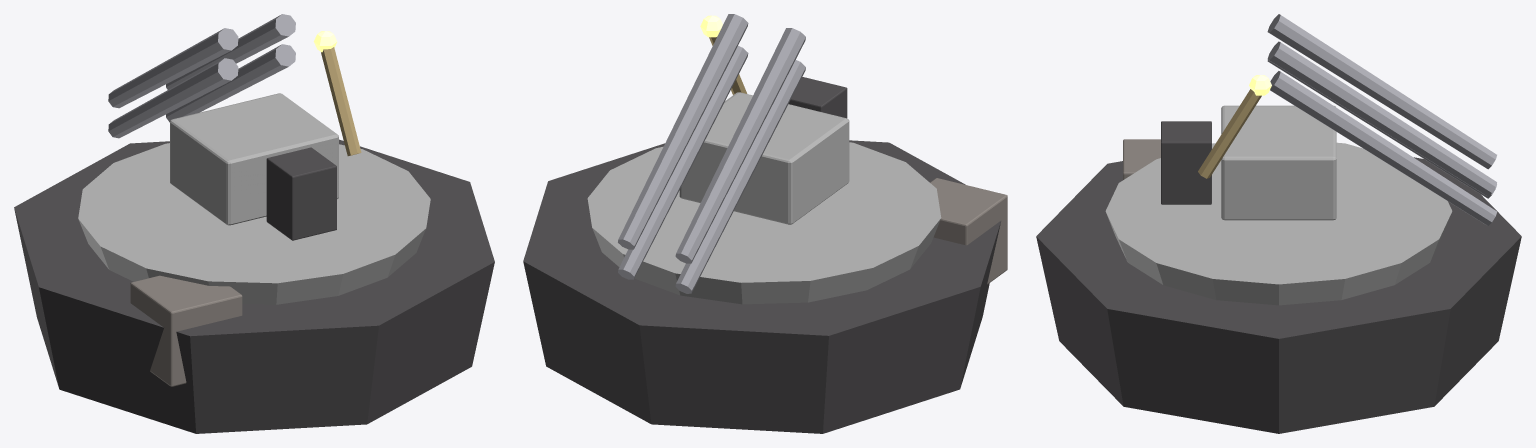
Rendered from bld_aa_turret.glb.
3 renders of one model, left to right at view 1: azimuth 30°, elevation 25°; view 2: azimuth 150°, elevation 25°; view 3: azimuth 270°, elevation 25°, orthographic. The views are drawn at different scales.
Visible parts, largest first — view 1: AA_Plinth, AA_Ring, AA_Cradle, AA_Locker, AA_Seat, AA_Flak.001, AA_Flak, AA_Flak.002, AA_Flak.003, AA_Finder; view 2: AA_Plinth, AA_Ring, AA_Cradle, AA_Flak.001, AA_Flak.003, AA_Locker, AA_Flak, AA_Flak.002, AA_Seat; view 3: AA_Plinth, AA_Ring, AA_Cradle, AA_Flak.001, AA_Flak.003, AA_Flak.002, AA_Seat, AA_Finder, AA_Locker, AA_Flak.
Part boxes in pixels (left/top/right/bottom): AA_Plinth: left=14, top=139, right=494, bottom=433; AA_Ring: left=78, top=143, right=430, bottom=304; AA_Cradle: left=170, top=93, right=338, bottom=225; AA_Locker: left=130, top=275, right=242, bottom=386; AA_Seat: left=266, top=147, right=336, bottom=240; AA_Flak.001: left=108, top=28, right=238, bottom=108; AA_Flak: left=108, top=58, right=238, bottom=138; AA_Flak.002: left=166, top=44, right=295, bottom=122; AA_Flak.003: left=166, top=14, right=295, bottom=89; AA_Finder: left=321, top=47, right=361, bottom=156; AA_Plinth: left=523, top=140, right=1000, bottom=433; AA_Ring: left=587, top=142, right=941, bottom=304; AA_Cradle: left=679, top=92, right=849, bottom=224; AA_Flak.001: left=675, top=28, right=805, bottom=263; AA_Flak.003: left=618, top=14, right=748, bottom=249; AA_Locker: left=930, top=178, right=1007, bottom=284; AA_Flak: left=675, top=60, right=805, bottom=293; AA_Flak.002: left=618, top=46, right=748, bottom=279; AA_Seat: left=788, top=77, right=847, bottom=118; AA_Plinth: left=1036, top=157, right=1521, bottom=433; AA_Ring: left=1105, top=142, right=1452, bottom=305; AA_Cradle: left=1221, top=105, right=1336, bottom=220; AA_Flak.001: left=1267, top=14, right=1496, bottom=169; AA_Flak.003: left=1267, top=41, right=1496, bottom=196; AA_Flak.002: left=1270, top=71, right=1496, bottom=225; AA_Seat: left=1161, top=121, right=1211, bottom=204; AA_Finder: left=1198, top=89, right=1261, bottom=178; AA_Locker: left=1123, top=139, right=1160, bottom=179; AA_Flak: left=1267, top=60, right=1496, bottom=198.
Bounding box in the file's own units: 2.1 × 1.49 × 2.1.
